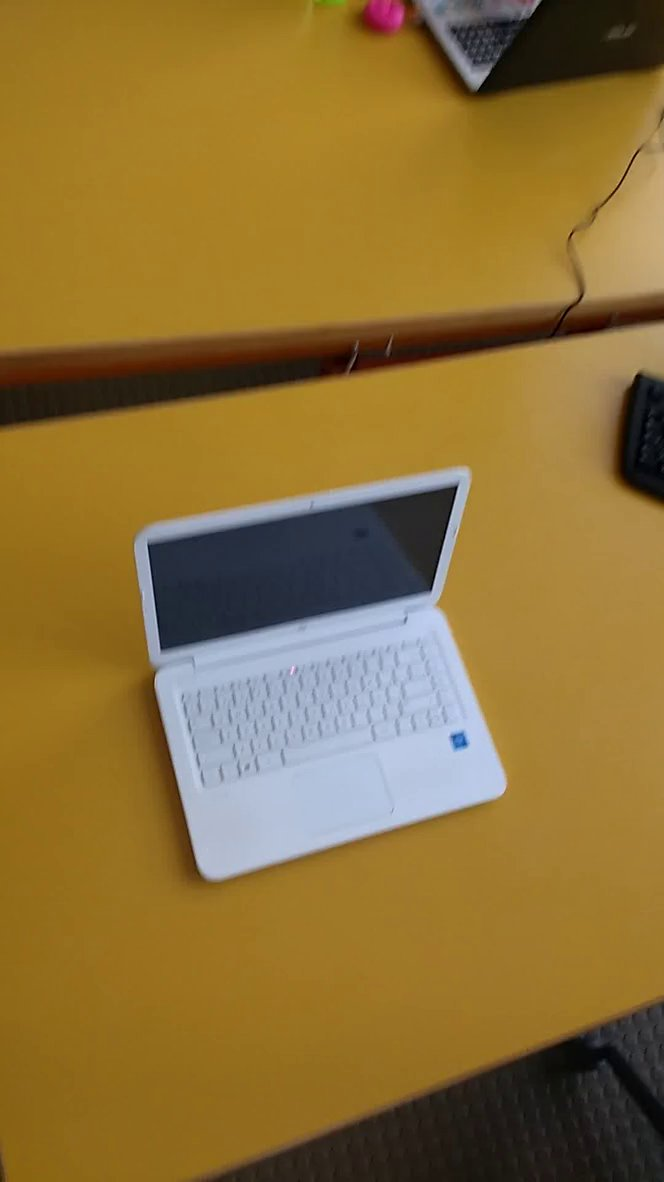laptop: (129, 457, 518, 895)
